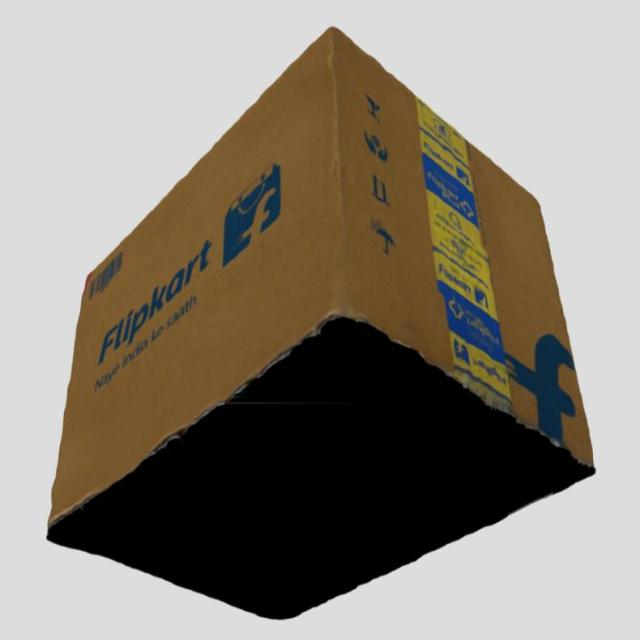box: (46, 26, 595, 619)
